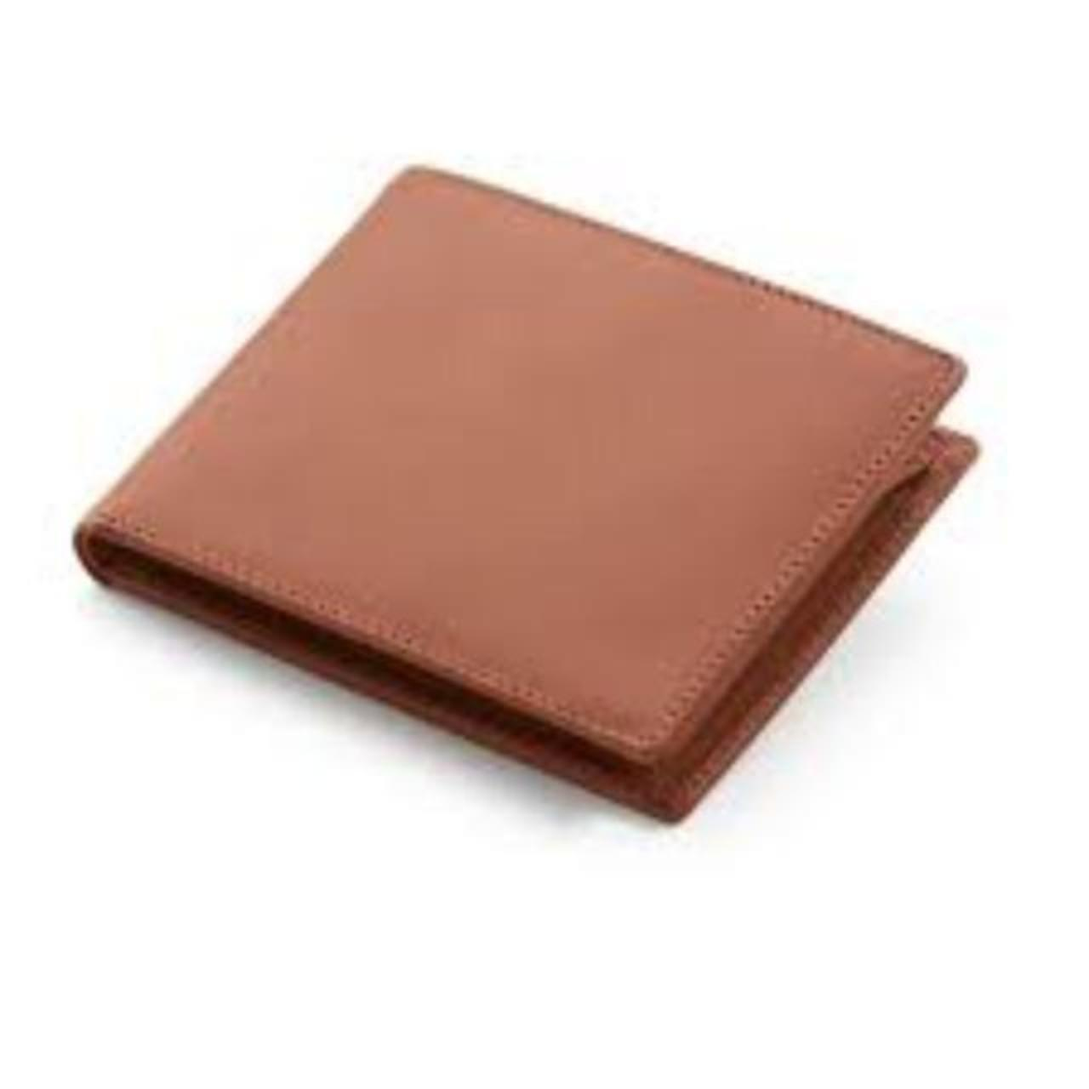wallet: (69, 159, 986, 840)
